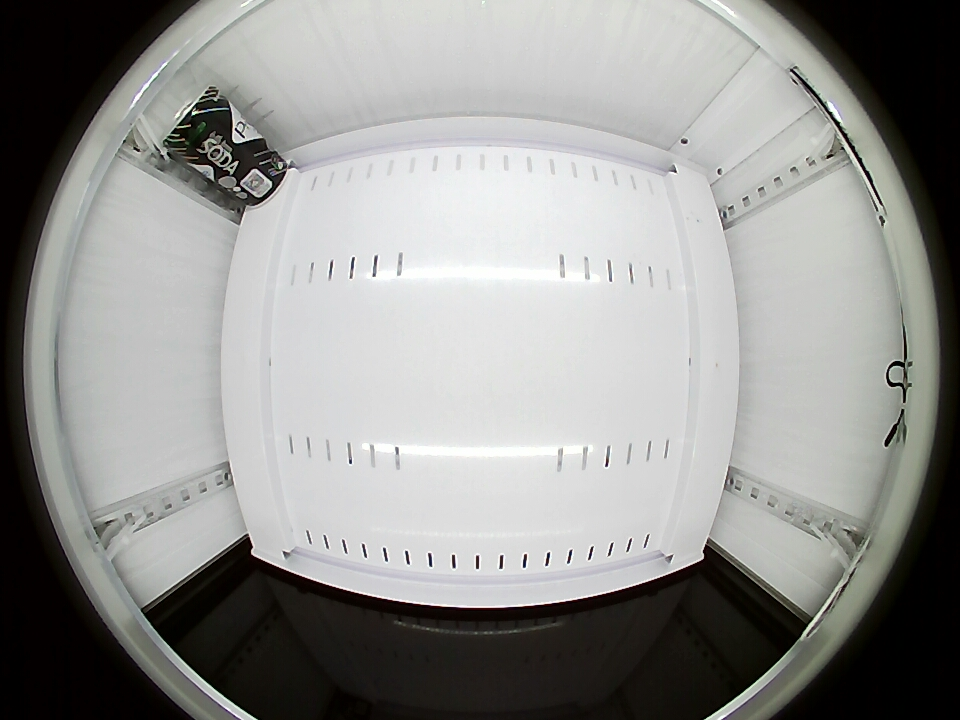qingdaowangzi-1: (163, 86, 228, 163)
